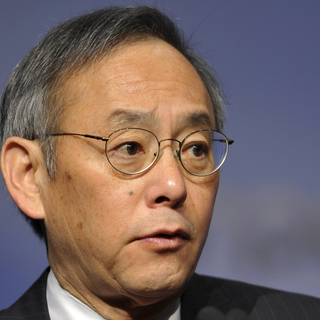eye: (107, 136, 148, 165), (179, 138, 214, 165)
